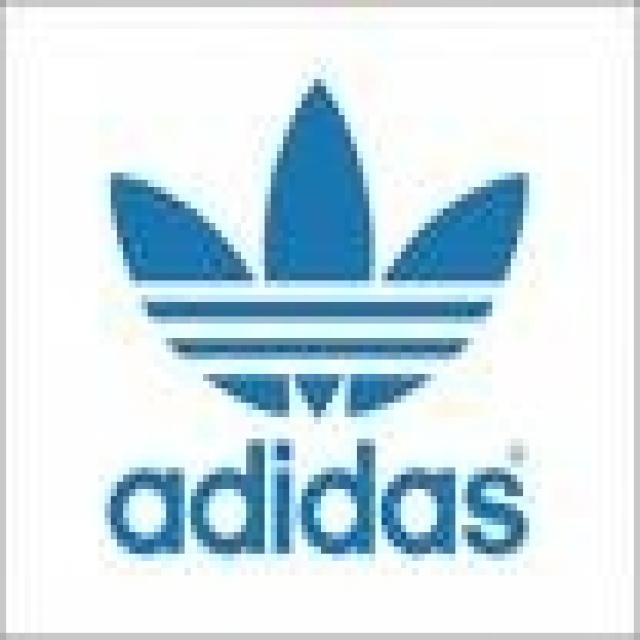adidas: (69, 51, 610, 598)
